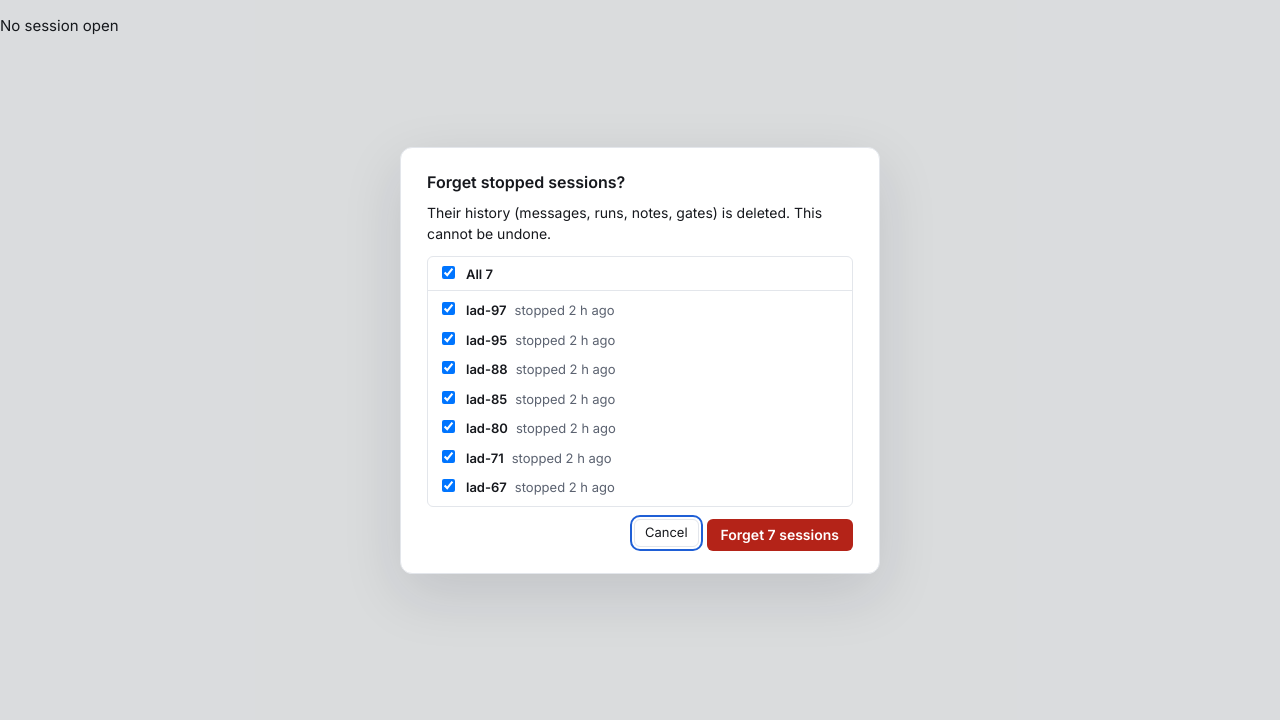
cleared ticks lower the count; All clears and ticks them all; none ticked, the button is off
The image size is (1280, 720).
Expected: the button "Forget 7 sessions" is enabled, top-left (706, 518), bottom-right (853, 550)
Click the checkbox labelled "lad-97 stopped 2 h ago" at (448,308), box top-left (442, 302), bottom-right (455, 315)
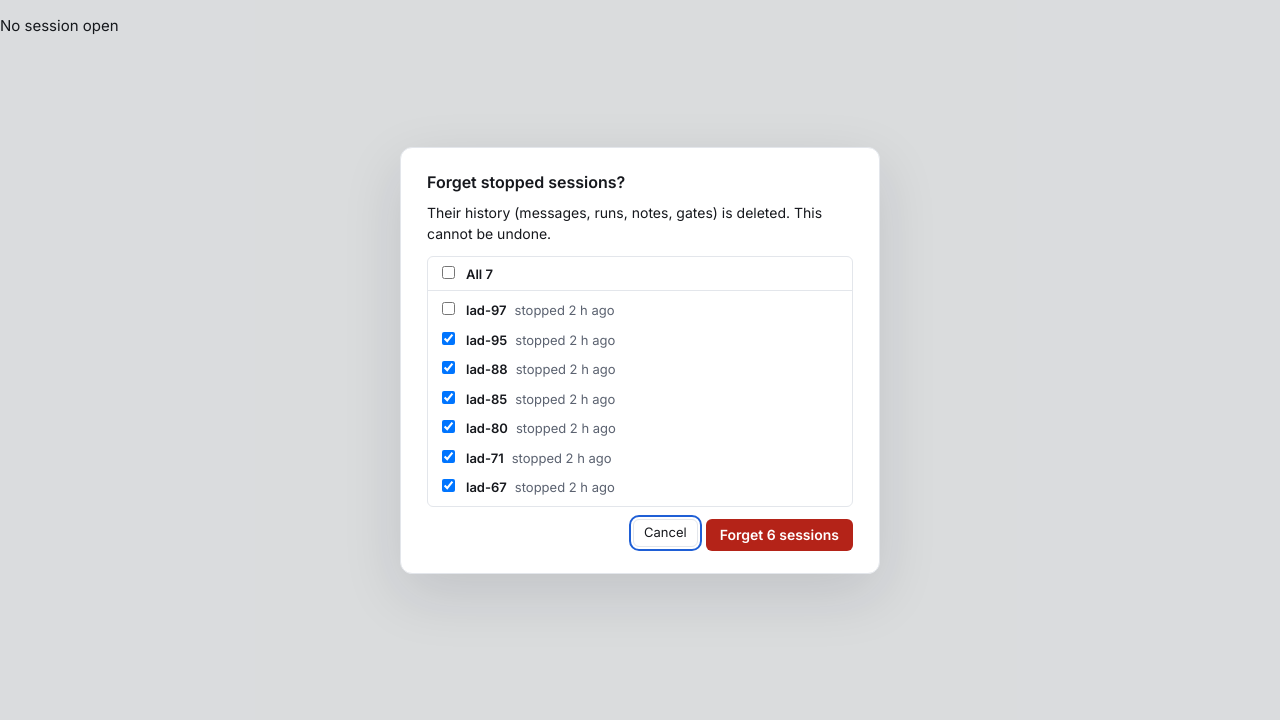
Click the checkbox labelled "lad-67 stopped 2 h ago" at (448,486), box top-left (442, 479), bottom-right (455, 492)
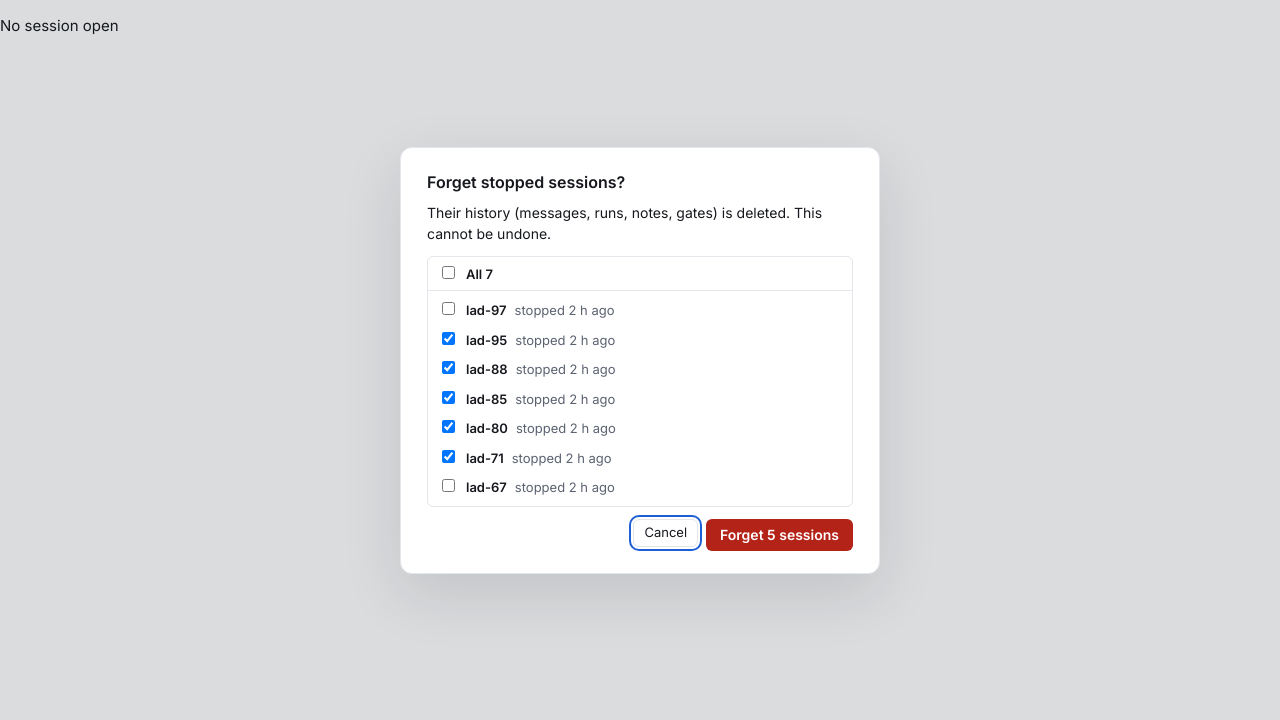
Now the checkbox labelled "All 7" is not checked
Now the button "Forget 5 sessions" is shown, box top-left (706, 518), bottom-right (853, 550)
Click the checkbox labelled "All 7" at (448,272), box top-left (442, 266), bottom-right (455, 278)
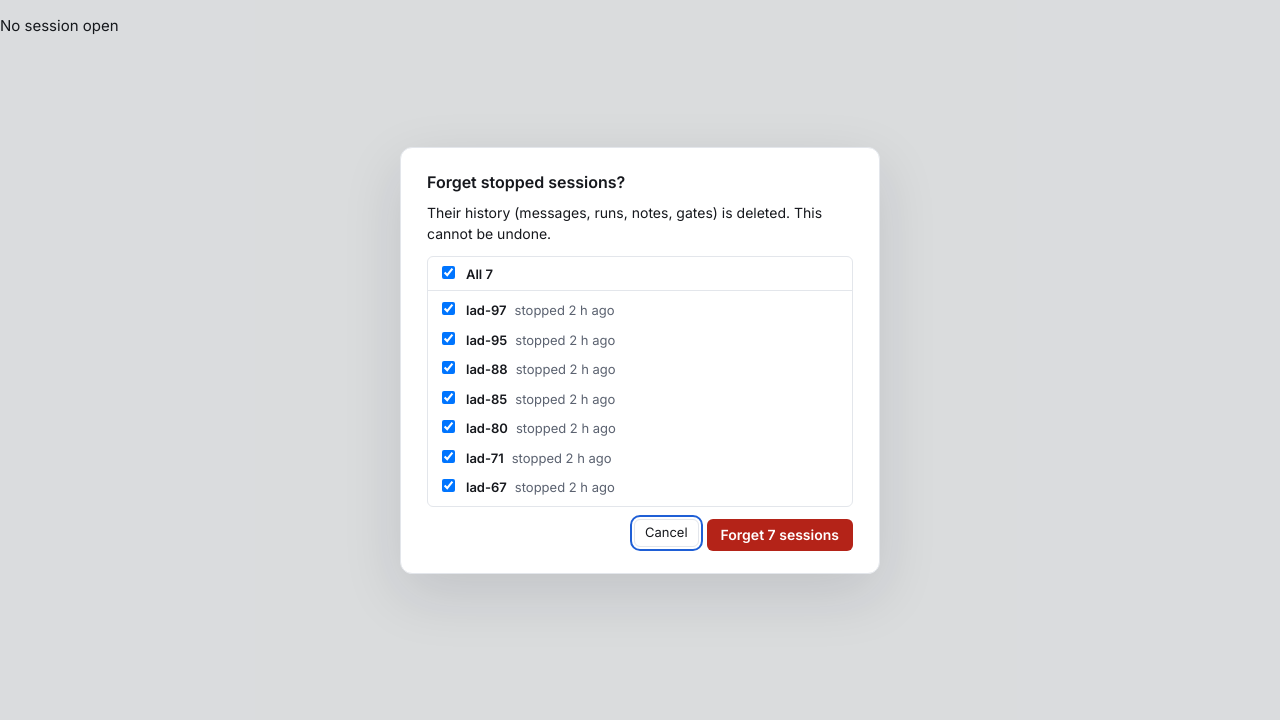
Now the button "Forget 7 sessions" is shown, box top-left (706, 518), bottom-right (853, 550)
Click the checkbox labelled "All 7" at (448,272), box top-left (442, 266), bottom-right (455, 278)
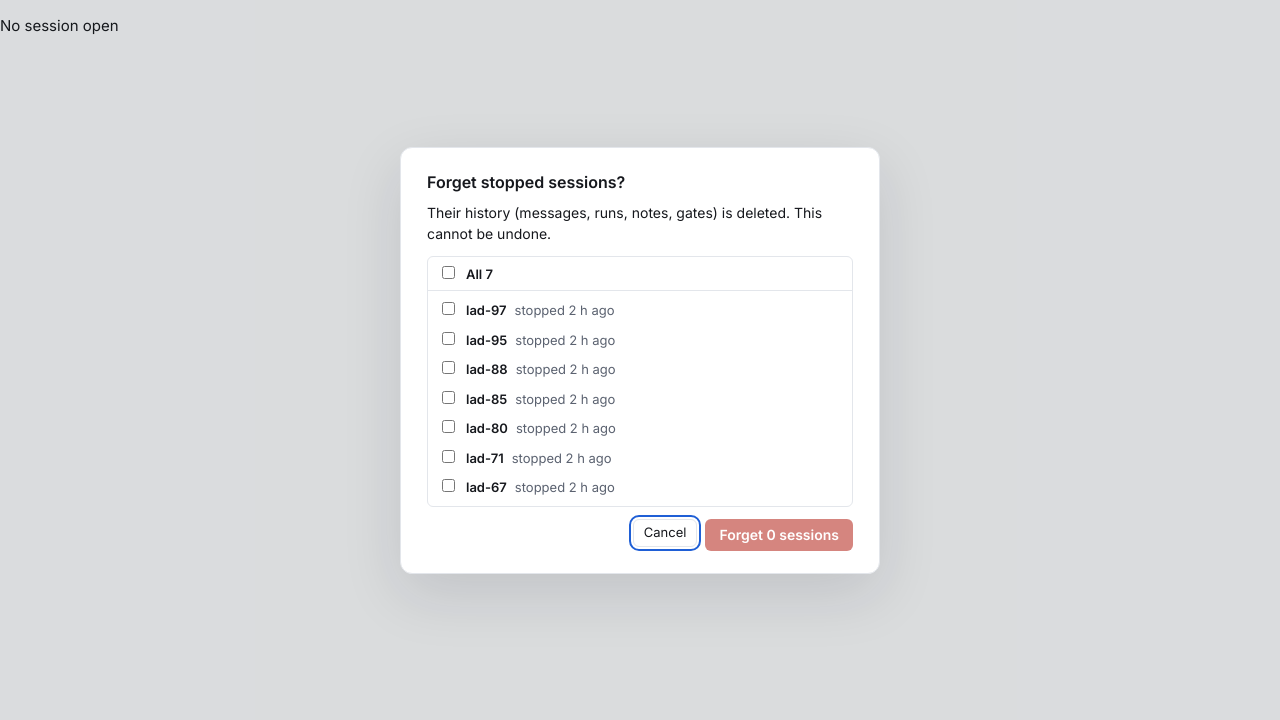
Now the button "Forget 0 sessions" is shown, box top-left (705, 518), bottom-right (853, 550)
Now the button "Forget 0 sessions" is disabled, box top-left (705, 518), bottom-right (853, 550)
Click the checkbox labelled "lad-85 stopped 2 h ago" at (448,397), box top-left (442, 390), bottom-right (455, 404)
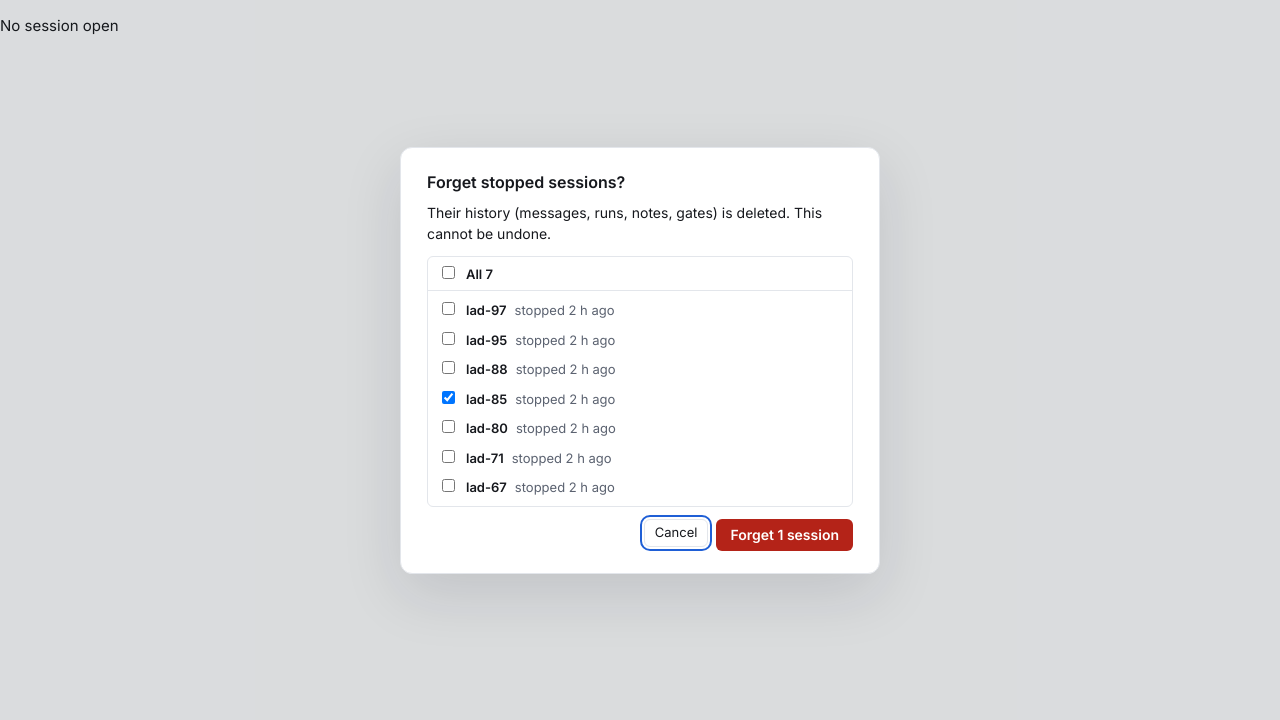
Now the button "Forget 1 session" is shown, box top-left (716, 518), bottom-right (853, 550)
